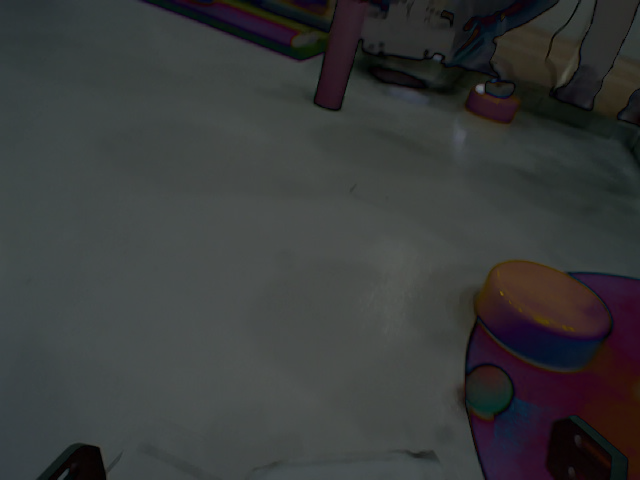kuang: (126, 1, 342, 74)
red: (463, 365, 507, 414)
yellow: (472, 259, 620, 369), (466, 85, 519, 121)
zhuzi: (309, 1, 367, 117)
